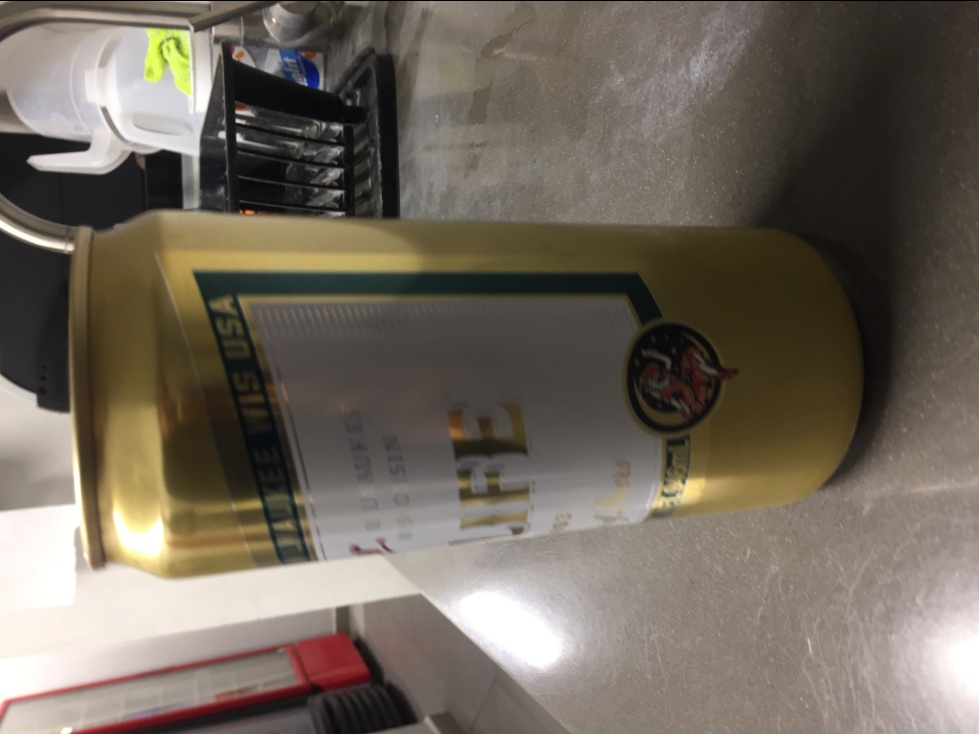miller: (62, 209, 867, 587)
